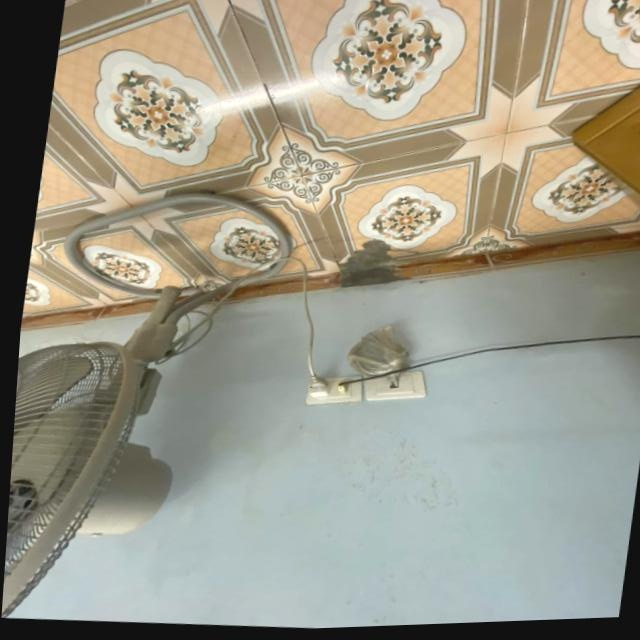outlet: (360, 367, 429, 406), (303, 372, 365, 410)
